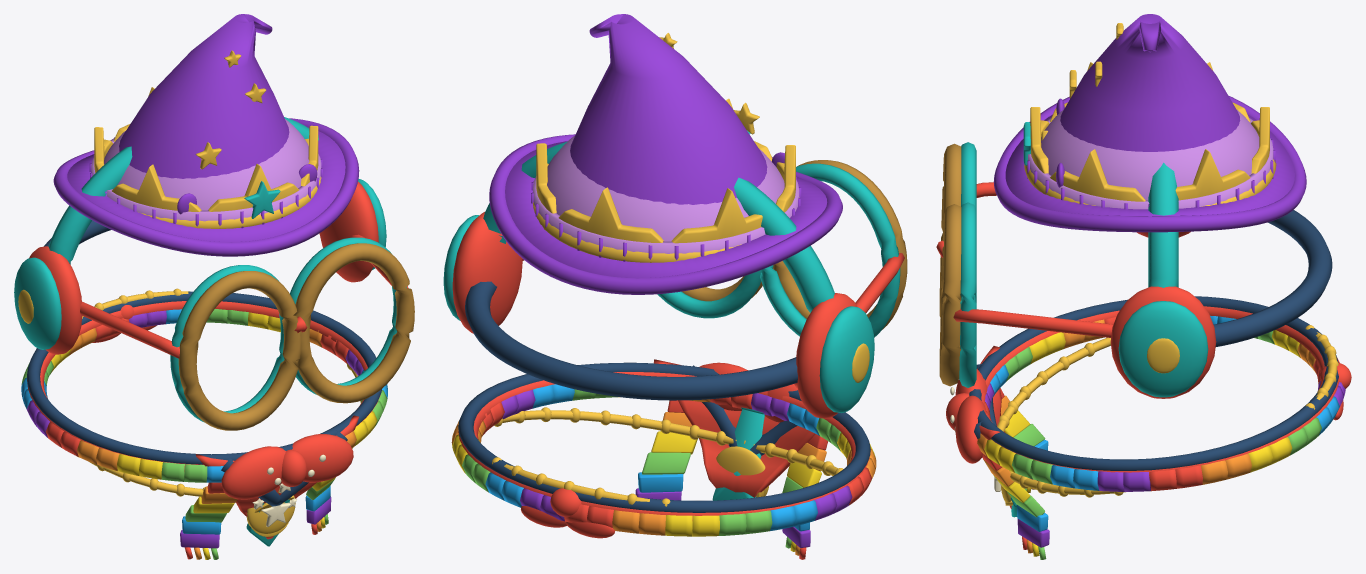
File: pip-wearables.glb
The picture shows the model from 3 angles, left to right: view 1: azimuth 30°, elevation 25°; view 2: azimuth 150°, elevation 25°; view 3: azimuth 270°, elevation 25°; orthographic projection. The views are drawn at different scales.
Visible parts, largest first — view 1: wizard_Wearables_violet, goggles_Wearables_brass, beanie_Wearables_lilac, headphones_Wearables_teal, medal_Wearables_navy, bowtie_Wearables_coral, crown_Wearables_gold, headphones_Wearables_coral, goggles_Wearables_teal, bandana_Wearables_coral, scarf_Wearables_yellow_yarn, scarf_Wearables_green (+11 smaller); view 2: wizard_Wearables_violet, goggles_Wearables_navy, headphones_Wearables_teal, medal_Wearables_navy, beanie_Wearables_lilac, bandana_Wearables_coral, headphones_Wearables_coral, crown_Wearables_gold, goggles_Wearables_teal, necklace_Wearables_gold, scarf_Wearables_blue, scarf_Wearables_green (+10 smaller); view 3: wizard_Wearables_violet, beanie_Wearables_lilac, headphones_Wearables_teal, medal_Wearables_navy, crown_Wearables_gold, goggles_Wearables_brass, goggles_Wearables_navy, goggles_Wearables_teal, bandana_Wearables_coral, scarf_Wearables_yellow_yarn, necklace_Wearables_gold, scarf_Wearables_green (+10 smaller).
Boxes of the visible parts, x1,y1,x2,y2 form: wizard_Wearables_violet: [53, 14, 359, 256]; goggles_Wearables_brass: [178, 243, 414, 430]; beanie_Wearables_lilac: [91, 119, 321, 221]; headphones_Wearables_teal: [14, 117, 386, 349]; medal_Wearables_navy: [27, 291, 381, 506]; bowtie_Wearables_coral: [221, 434, 353, 499]; crown_Wearables_gold: [94, 87, 321, 228]; headphones_Wearables_coral: [29, 181, 378, 354]; goggles_Wearables_teal: [170, 237, 406, 422]; bandana_Wearables_coral: [27, 298, 380, 539]; scarf_Wearables_yellow_yarn: [51, 312, 377, 559]; scarf_Wearables_green: [21, 309, 387, 559]; wizard_Wearables_violet: [489, 14, 842, 294]; goggles_Wearables_navy: [465, 281, 797, 400]; headphones_Wearables_teal: [443, 141, 874, 412]; medal_Wearables_navy: [458, 362, 870, 512]; beanie_Wearables_lilac: [533, 135, 799, 253]; bandana_Wearables_coral: [458, 359, 869, 538]; headphones_Wearables_coral: [452, 212, 857, 418]; crown_Wearables_gold: [533, 98, 799, 262]; goggles_Wearables_teal: [657, 163, 900, 337]; necklace_Wearables_gold: [492, 407, 843, 506]; scarf_Wearables_blue: [485, 384, 819, 531]; scarf_Wearables_green: [462, 389, 840, 548]; wizard_Wearables_violet: [993, 14, 1306, 232]; beanie_Wearables_lilac: [1028, 109, 1273, 209]; headphones_Wearables_teal: [1118, 162, 1208, 397]; medal_Wearables_navy: [969, 296, 1338, 470]; crown_Wearables_gold: [1024, 62, 1276, 206]; goggles_Wearables_brass: [939, 143, 961, 386]; goggles_Wearables_navy: [1213, 210, 1332, 346]; goggles_Wearables_teal: [959, 142, 976, 387]; bandana_Wearables_coral: [977, 306, 1351, 508]; scarf_Wearables_yellow_yarn: [984, 330, 1300, 556]; necklace_Wearables_gold: [997, 325, 1338, 505]; scarf_Wearables_green: [1005, 331, 1321, 559].
Bounding box in the file's own units: 3.38 × 4.37 × 3.14.
